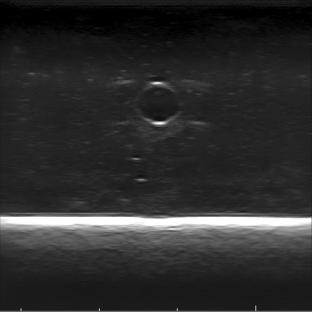vessel: (133, 79, 185, 128)
